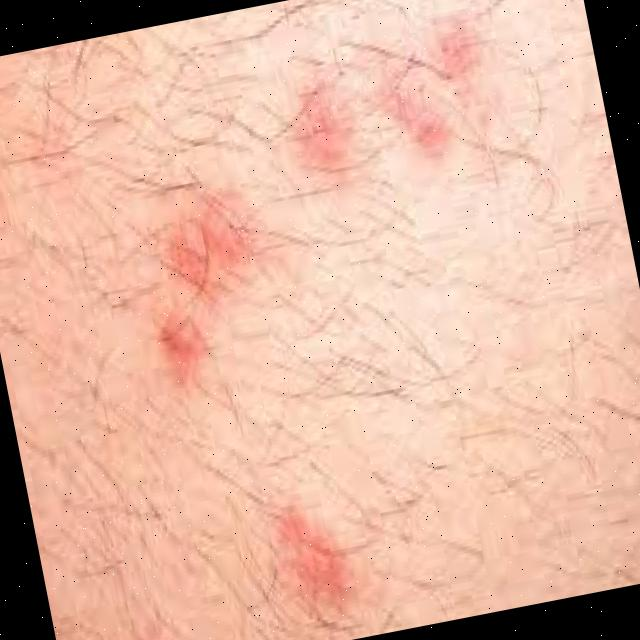kan emici bocekler: (250, 475, 366, 620), (152, 188, 261, 309), (278, 86, 356, 189), (374, 80, 452, 170), (154, 309, 217, 393), (424, 21, 488, 103)
